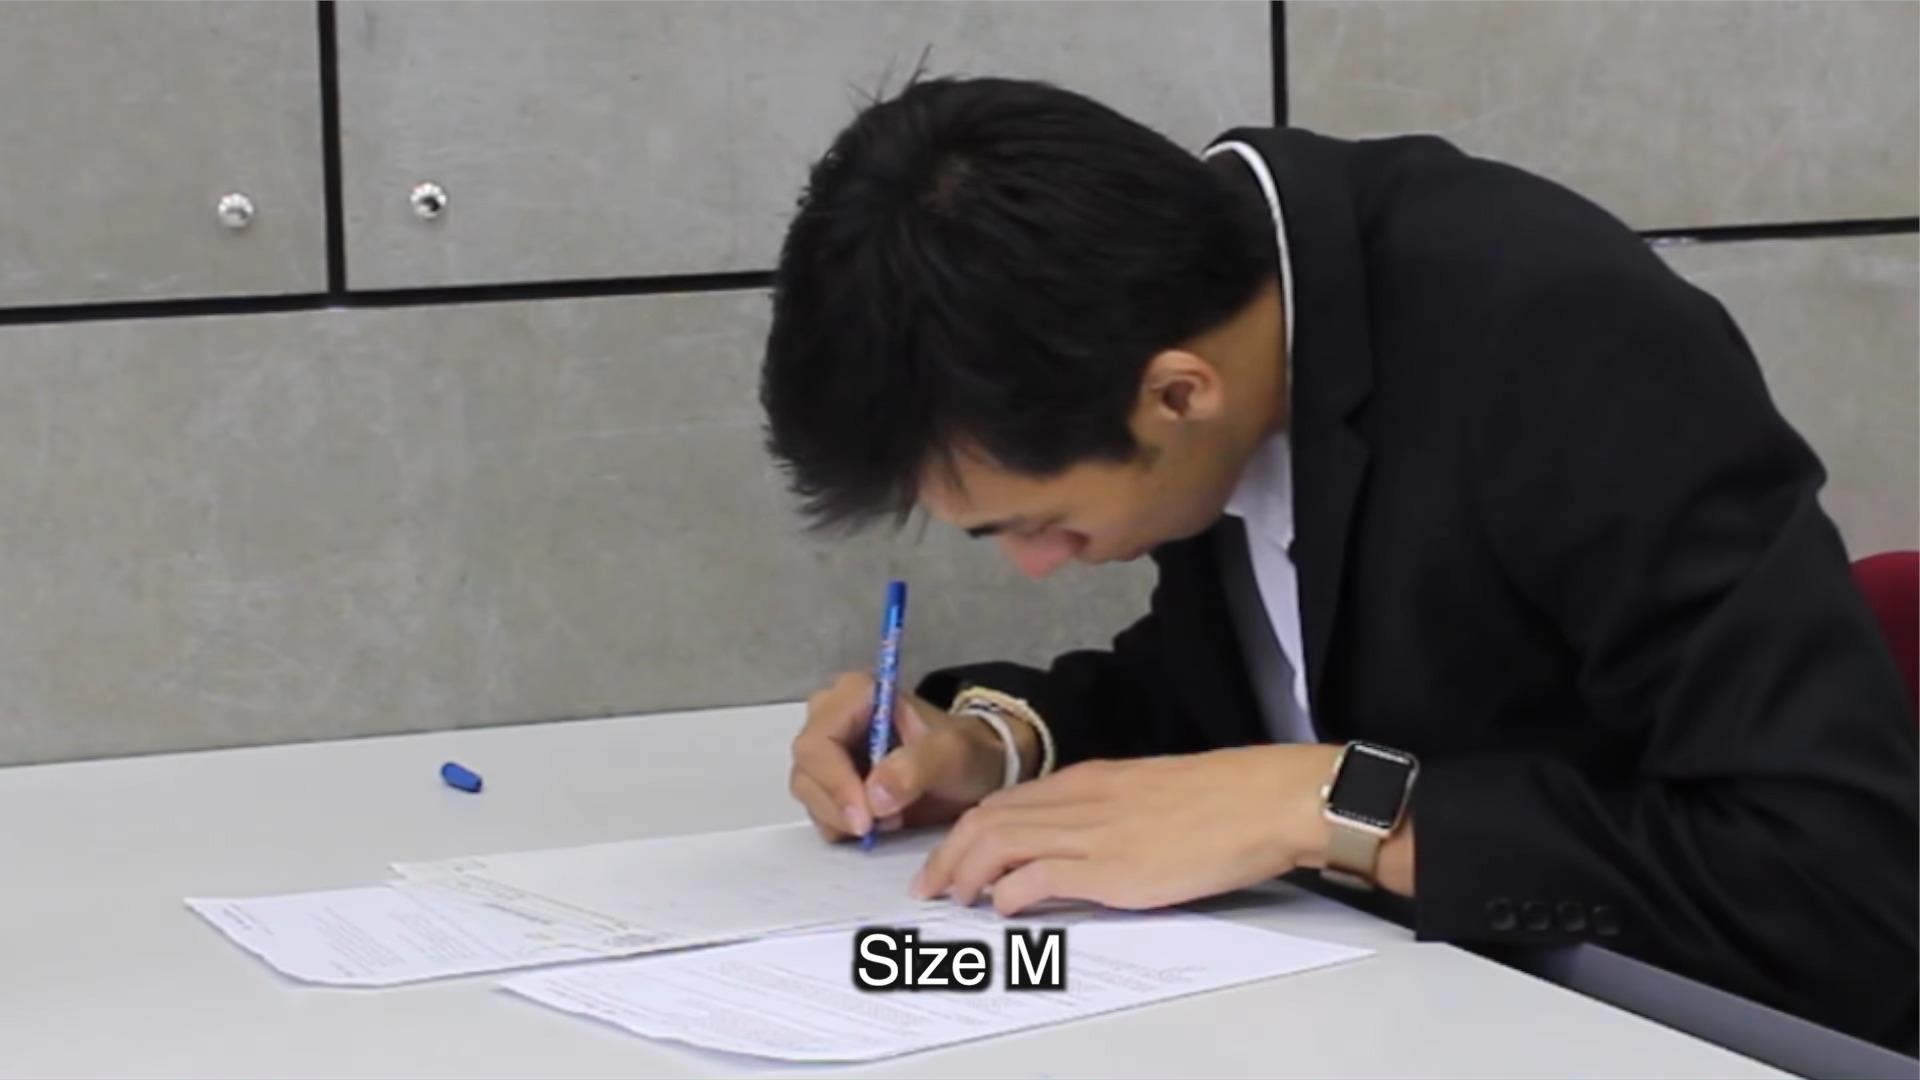good: (200, 0, 1920, 920)
